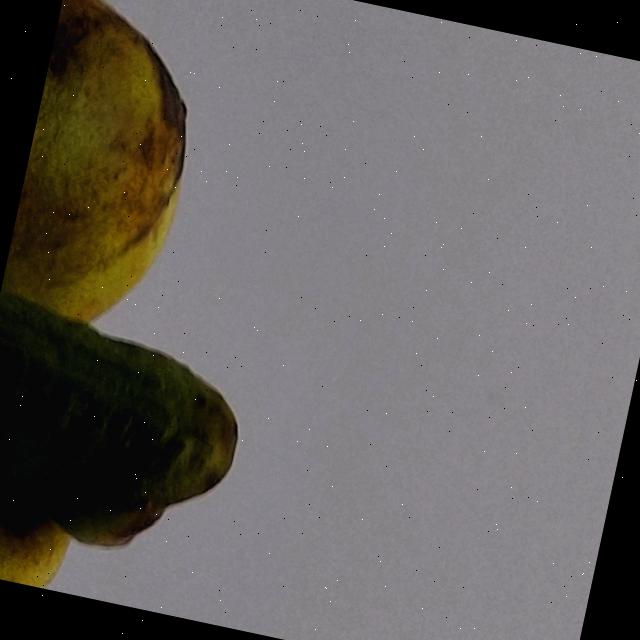mangosteen: (0, 0, 401, 636)
